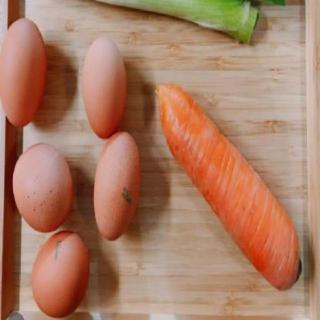carrot: (158, 80, 301, 298)
